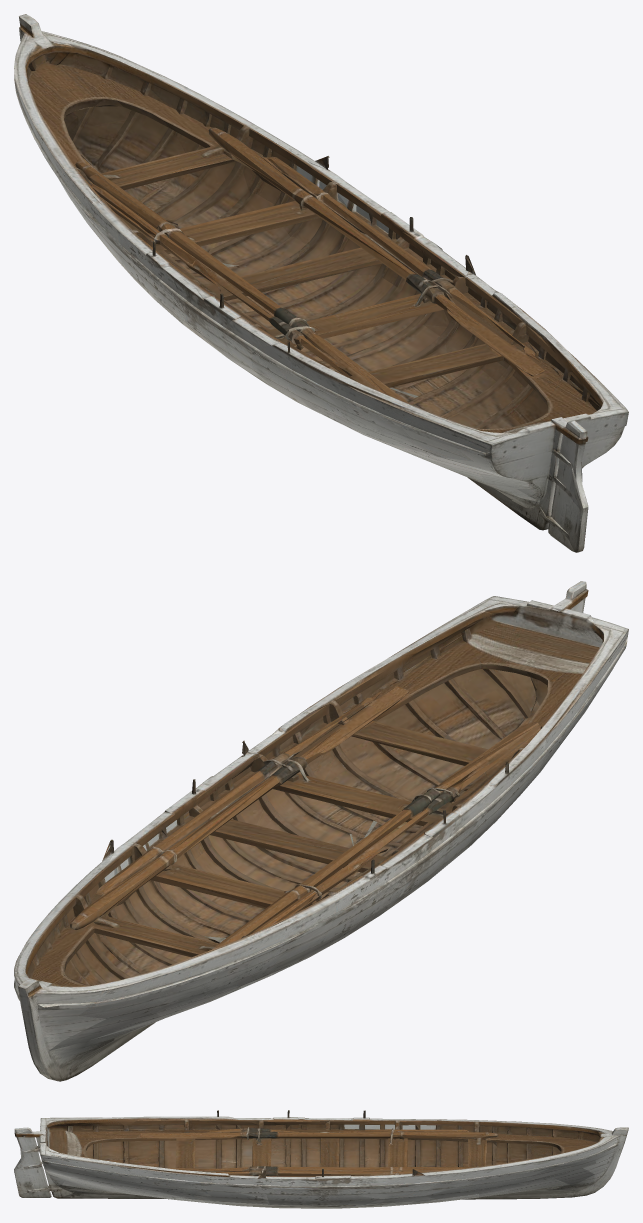
The model's file is pinnace.glb.
3 renders of one model, top to bottom at view 1: azimuth 30°, elevation 25°; view 2: azimuth 150°, elevation 25°; view 3: azimuth 270°, elevation 25°, orthographic. The views are drawn at different scales.
Parts seen in each view (by area): view 1: output_unwrapped; view 2: output_unwrapped; view 3: output_unwrapped.
Part boxes in pixels (box(x1,y1,x2,y2)): output_unwrapped: box(14, 14, 628, 552); output_unwrapped: box(14, 581, 628, 1081); output_unwrapped: box(14, 1110, 628, 1208).
Bounding box in the file's own units: 1.75 × 0.9258 × 7.32.
Materials: 1 (1 with a texture image).
